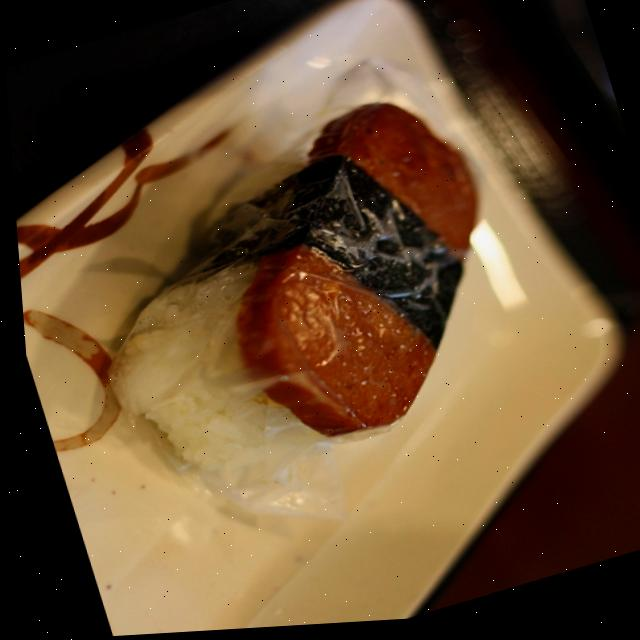寿司卷物: (14, 43, 579, 546)
